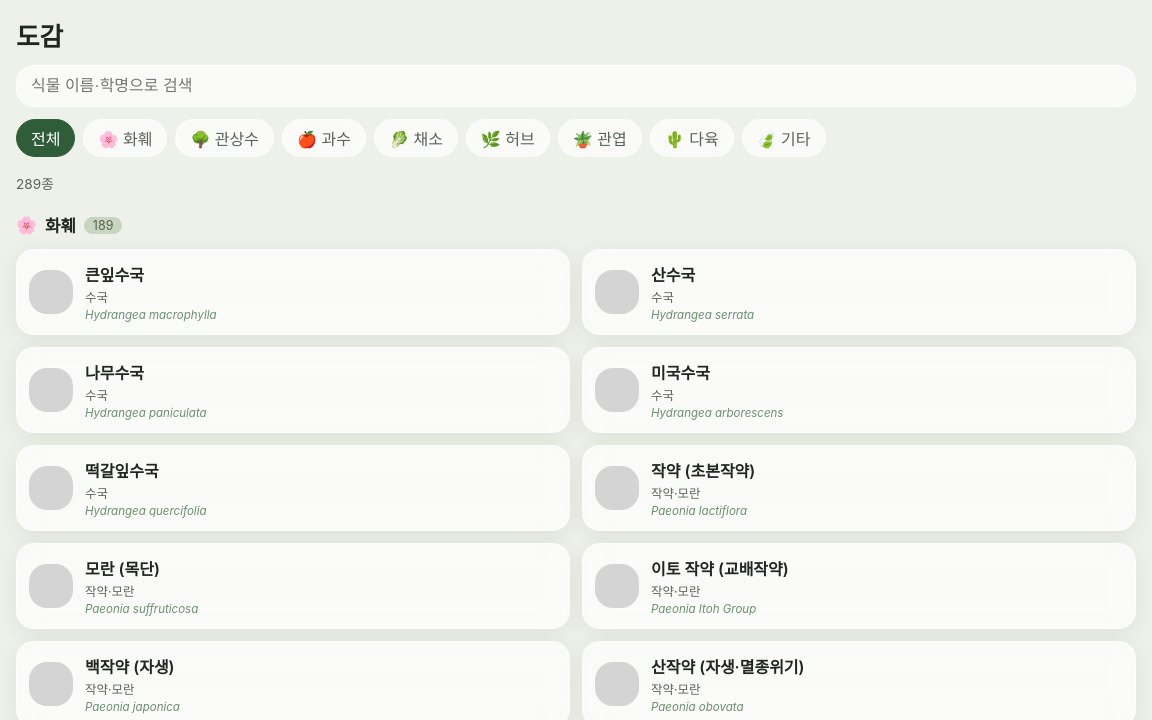
Test: CodexList › 없는 검색어는 빈 상태를 보여준다
This screenshot has width=1152, height=720.
Step 1. Type "zzz없는식물" into the search field named "식물 검색" → (576, 86), box 16,65 -> 1136,107
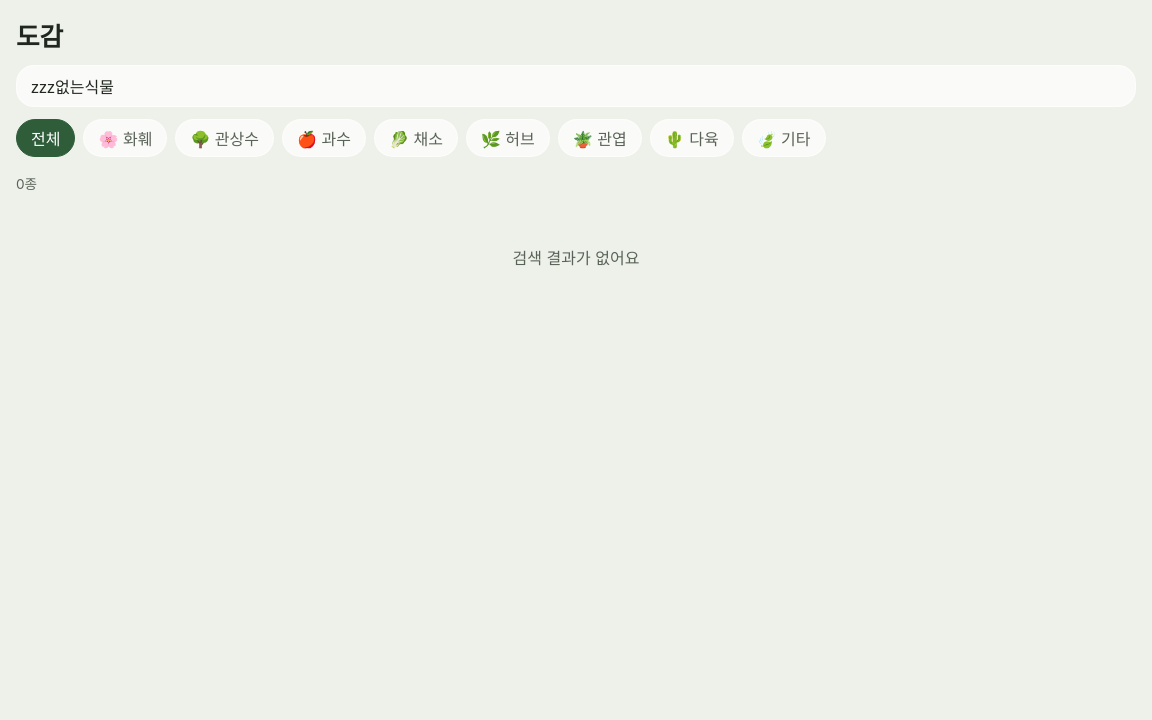
expect the text "검색 결과가 없어요" is shown: met, box 513,248 -> 639,268
